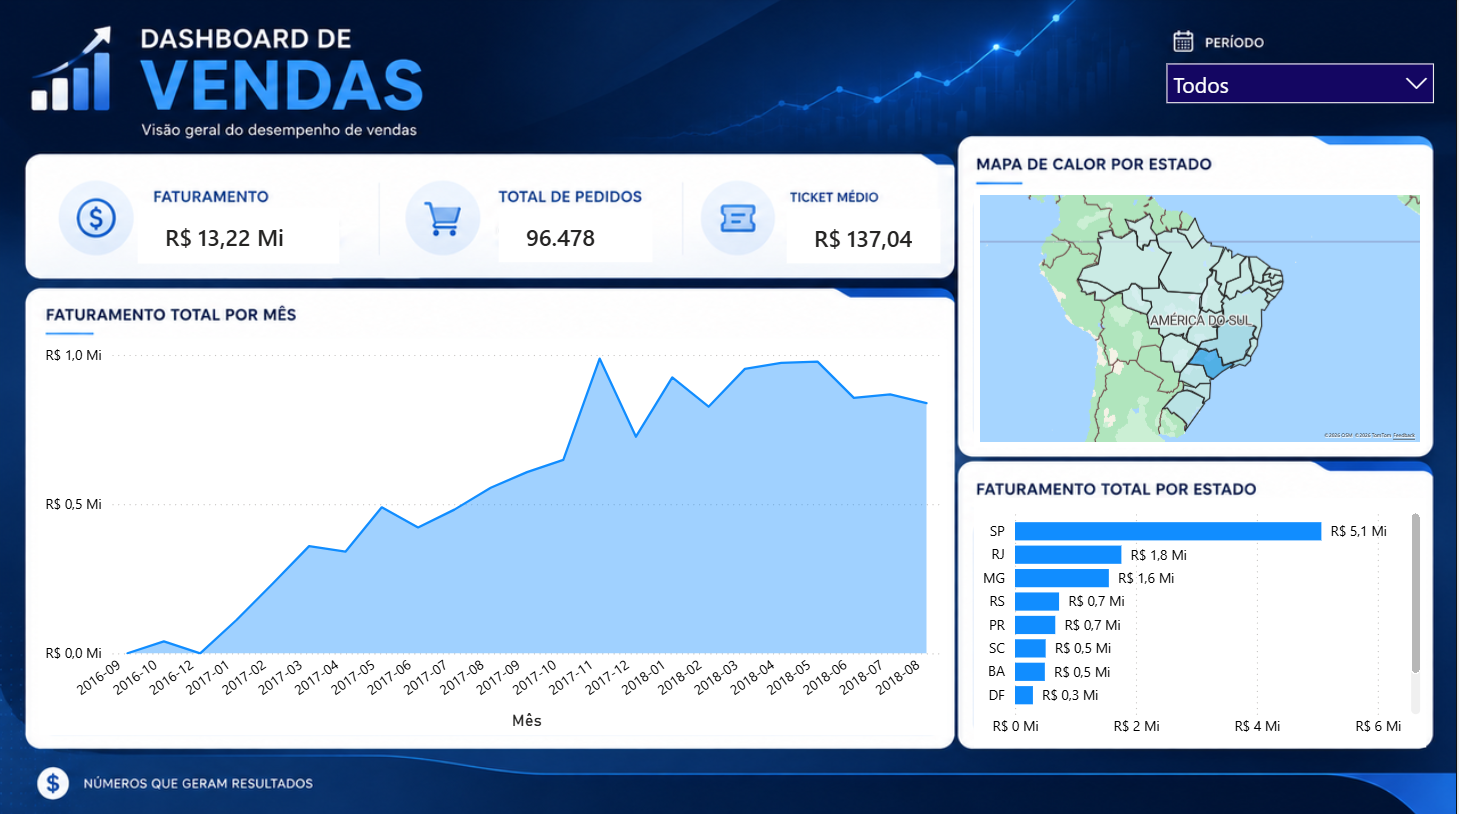

The page's visual inventory and layout, read from the dashboard file:
{"tool":"powerbi","page":{"name":"Vendas","canvas":[1280,720],"ordinal":0},"visuals":[{"type":"cardVisual","title":"Faturamento","fields":{"Data":["Sum(pedidos_entregues.price)"]},"box":[116.9,178.9,187,59],"z":0},{"type":"cardVisual","title":"Total de Pedidos","fields":{"Data":["Count(pedidos_entregues.order_id)","select"]},"box":[433.7,179.9,145,57],"z":1000},{"type":"cardVisual","title":"Ticket Médio","fields":{"Data":["pedidos_entregues.Ticket Médio"]},"box":[686.5,179.9,145.9,59],"z":2000},{"type":"lineChart","title":"Faturamento Total por Mês","fields":{"Category":["pedidos_entregues.mes_compra"],"Y":["pedidos_entregues.Faturamento Total"]},"box":[35,299,797,348],"z":3000},{"type":"clusteredBarChart","title":"Faturamento Total por Estado","fields":{"Category":["pedidos_entregues.customer_state"],"Y":["pedidos_entregues.Faturamento Total"]},"box":[855.9,438.7,396.8,218.8],"z":4000},{"type":"azureMap","title":"Mapa de calor por estado","fields":{"Category":["pedidos_entregues.País","pedidos_entregues.customer_state"]},"box":[856,168,397,227],"z":5000},{"type":"slicer","fields":{"Values":["pedidos_entregues.ano_compra"]},"box":[1015,47.5,255,60],"z":6001}]}

Visuals, with their boxes in screenshot pixels (x1, y1, x2, y2), scaled from the page's 1280x720 canvas onto the 1459x814 screenshot:
"Faturamento" cardVisual: x1=133, y1=202, x2=346, y2=269
"Total de Pedidos" cardVisual: x1=494, y1=203, x2=660, y2=268
"Ticket Médio" cardVisual: x1=783, y1=203, x2=949, y2=270
"Faturamento Total por Mês" lineChart: x1=40, y1=338, x2=948, y2=731
"Faturamento Total por Estado" clusteredBarChart: x1=976, y1=496, x2=1428, y2=743
"Mapa de calor por estado" azureMap: x1=976, y1=190, x2=1428, y2=447
slicer - pedidos_entregues.ano_compra: x1=1157, y1=54, x2=1448, y2=122
